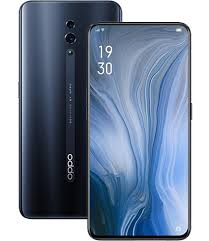oppo: (85, 20, 193, 239), (16, 1, 124, 219)
